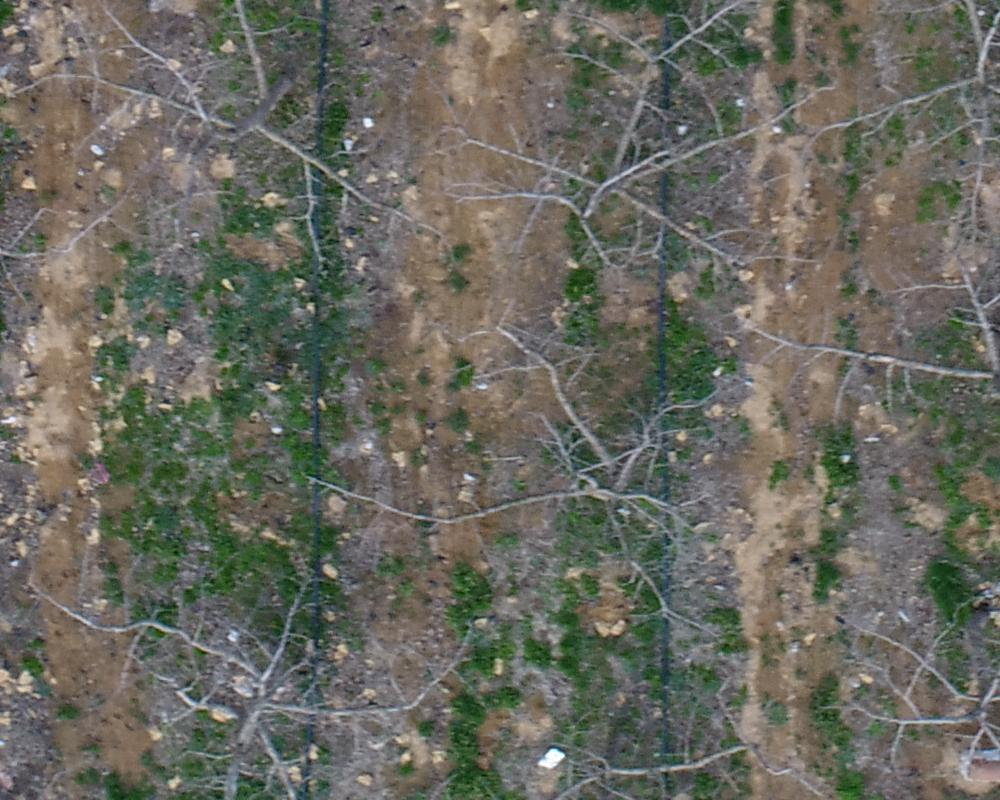apple: (17, 523, 488, 790), (428, 10, 832, 318), (413, 286, 791, 609), (17, 10, 452, 267), (738, 248, 990, 642), (817, 527, 990, 790), (417, 692, 791, 790)
